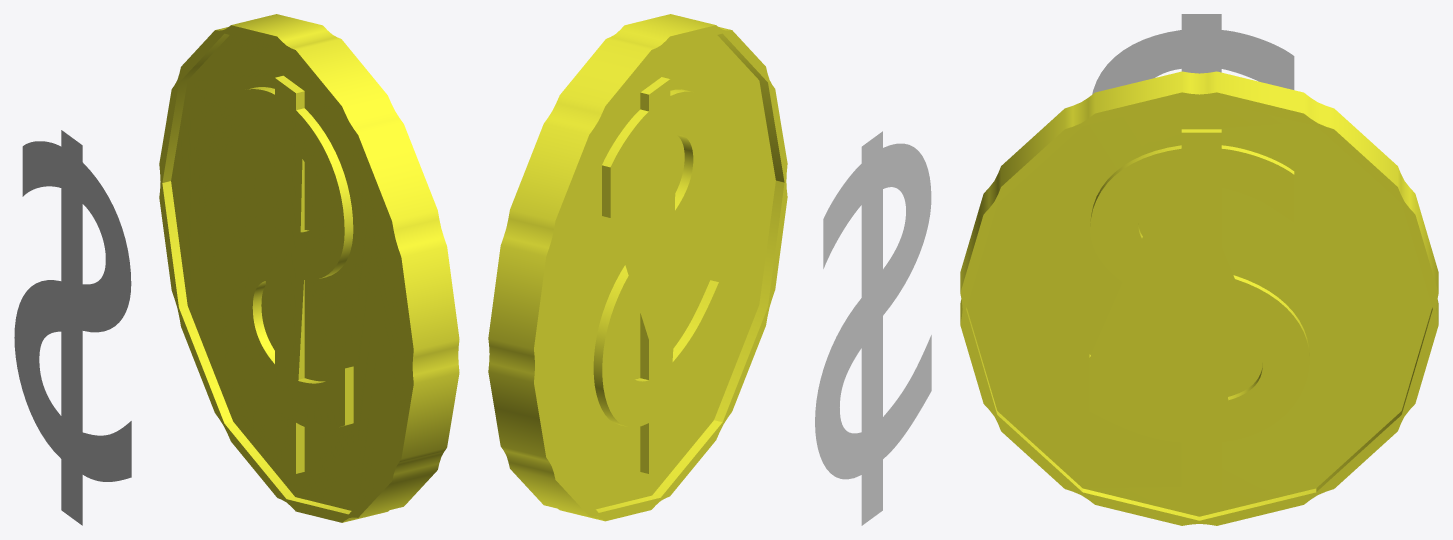
The model's file is Koinz.fbx.
The picture shows the model from 3 angles, left to right: view 1: azimuth 30°, elevation 25°; view 2: azimuth 150°, elevation 25°; view 3: azimuth 270°, elevation 25°; orthographic projection. The views are drawn at different scales.
Visible parts, largest first — view 1: Cylinder, Text; view 2: Cylinder, Text; view 3: Cylinder, Text.
Boxes of the visible parts, x1=… form: Cylinder: x1=159, y1=14, x2=459, y2=522; Text: x1=14, y1=130, x2=131, y2=525; Cylinder: x1=488, y1=14, x2=787, y2=521; Text: x1=815, y1=131, x2=931, y2=525; Cylinder: x1=960, y1=71, x2=1438, y2=525; Text: x1=1092, y1=14, x2=1294, y2=94.
Bounding box in the file's own units: 115 × 196 × 196.
